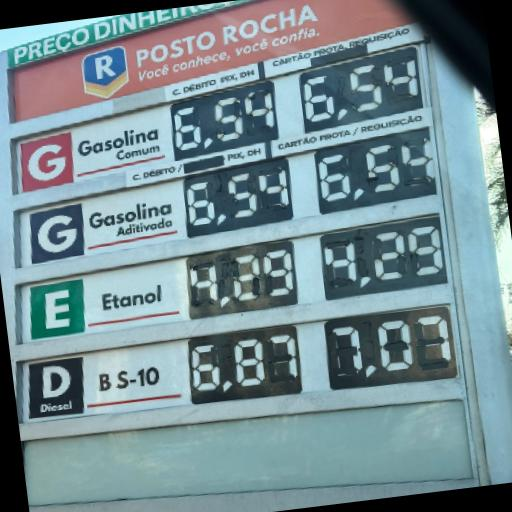ETANOL: (21, 265, 187, 340)
GASOLINA AD: (25, 184, 183, 268)
GASOLINA C: (18, 111, 172, 194)
S10: (22, 342, 187, 422)
placa: (0, 1, 491, 436)
preco: (184, 324, 307, 404), (186, 242, 298, 318), (179, 163, 294, 236), (170, 84, 282, 158)
